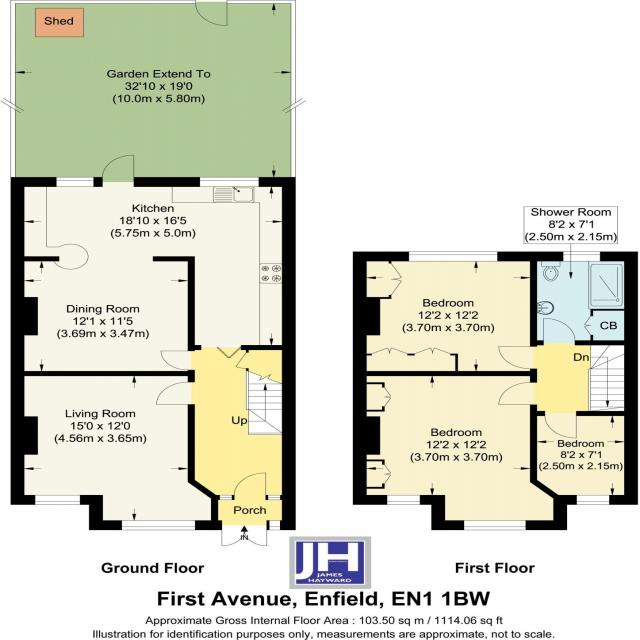DOOR: (221, 519, 269, 547), (102, 154, 135, 186), (156, 381, 196, 405), (498, 382, 537, 406), (498, 346, 538, 369), (545, 411, 577, 439), (543, 318, 575, 346), (234, 473, 267, 500), (160, 350, 196, 370)
ROOM: (10, 153, 296, 377), (352, 370, 568, 530), (10, 371, 218, 530), (352, 251, 537, 376), (529, 411, 639, 505)
WINDOW: (409, 251, 498, 261), (121, 520, 196, 531), (464, 520, 526, 530), (200, 177, 259, 187), (35, 495, 80, 505), (563, 251, 601, 262), (56, 177, 94, 187), (387, 495, 420, 505), (577, 495, 609, 505)
